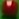brown: (0, 0, 19, 19)
